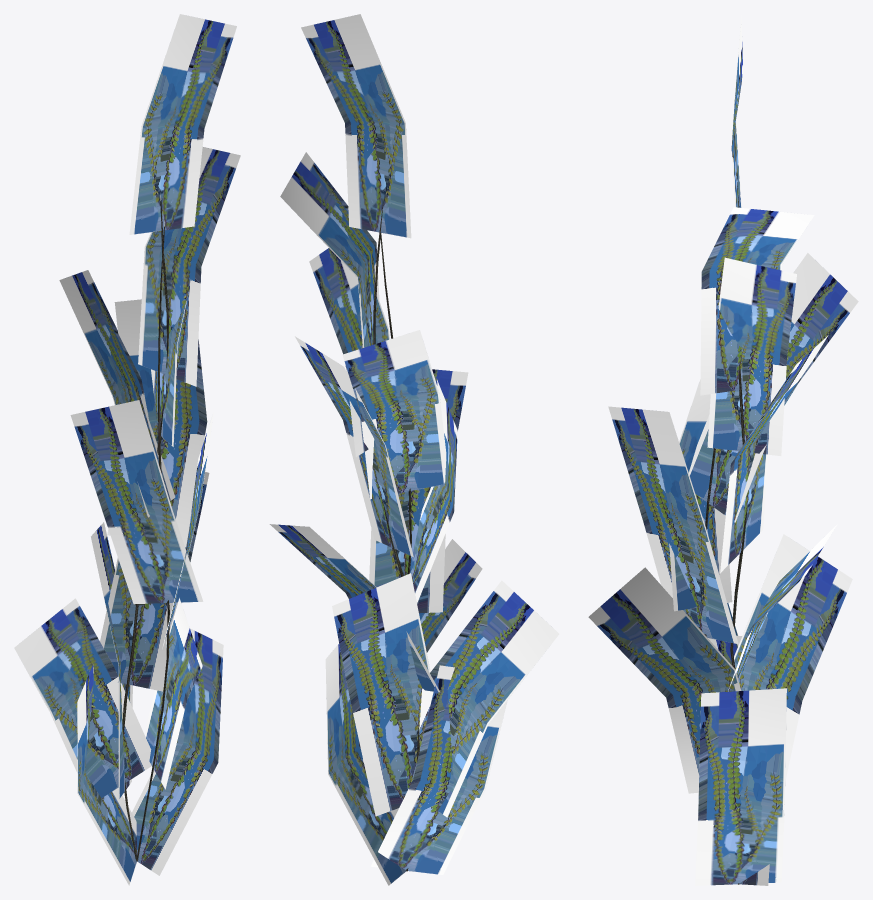
File: Ivy_2.fbx
3 renders of one model, left to right at view 1: azimuth 30°, elevation 25°; view 2: azimuth 150°, elevation 25°; view 3: azimuth 270°, elevation 25°, orthographic. The views are drawn at different scales.
Parts seen in each view (by area): view 1: Ivy_2; view 2: Ivy_2; view 3: Ivy_2.
Boxes of the visible parts, left/top/right/bottom form: Ivy_2: left=14, top=14, right=240, bottom=885; Ivy_2: left=269, top=14, right=559, bottom=885; Ivy_2: left=588, top=15, right=858, bottom=885.
Bounding box in the file's own units: 12.11 × 11.02 × 40.59.
